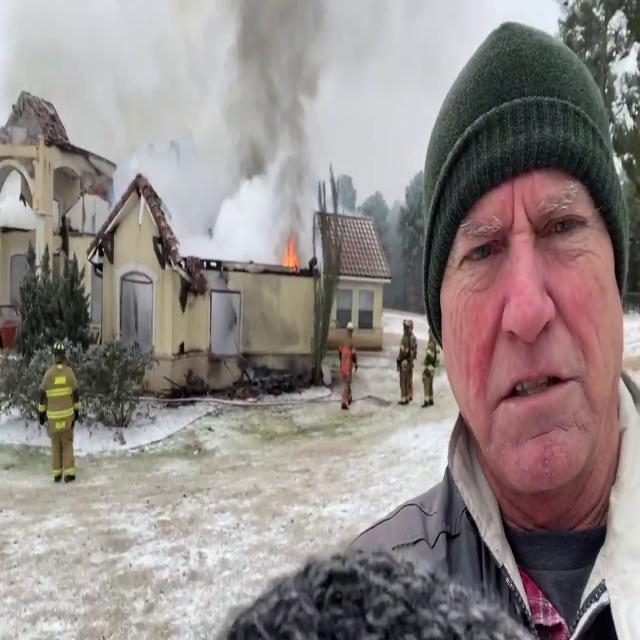Fire: (281, 230, 301, 276)
Smoke: (201, 0, 336, 250)
